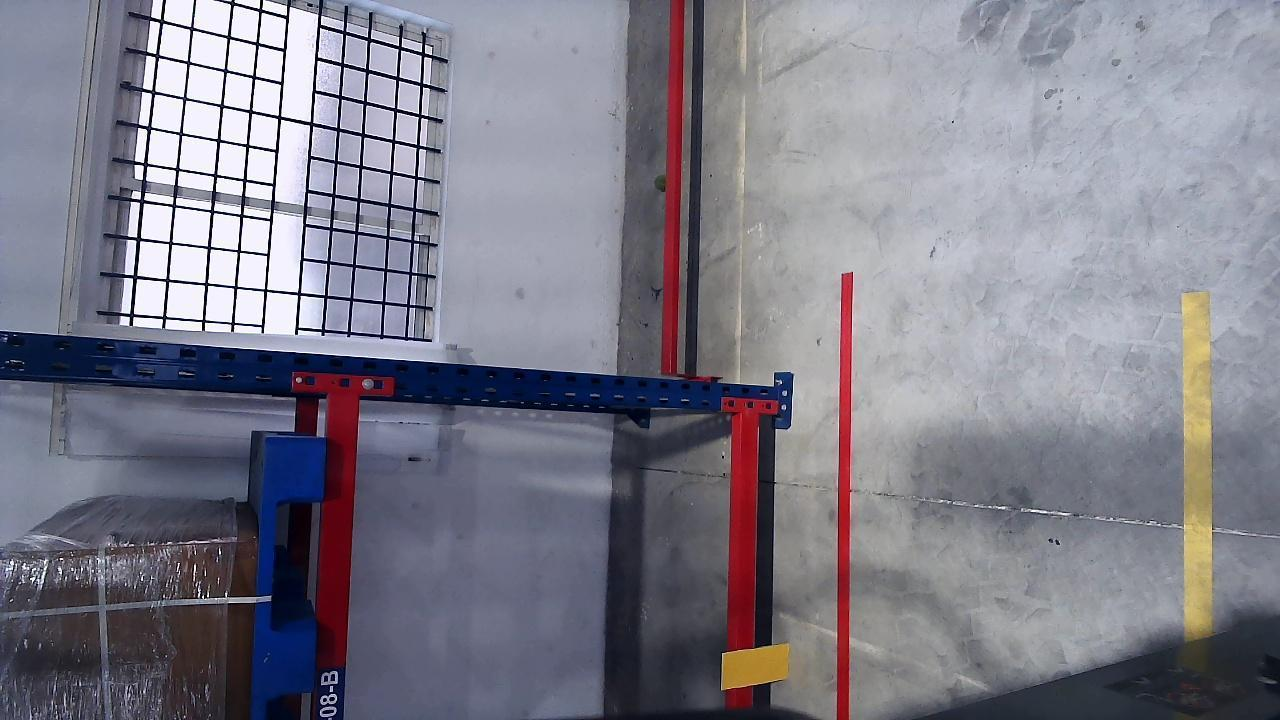red_line: (835, 273, 854, 718)
yellow_line: (1182, 298, 1214, 635)
